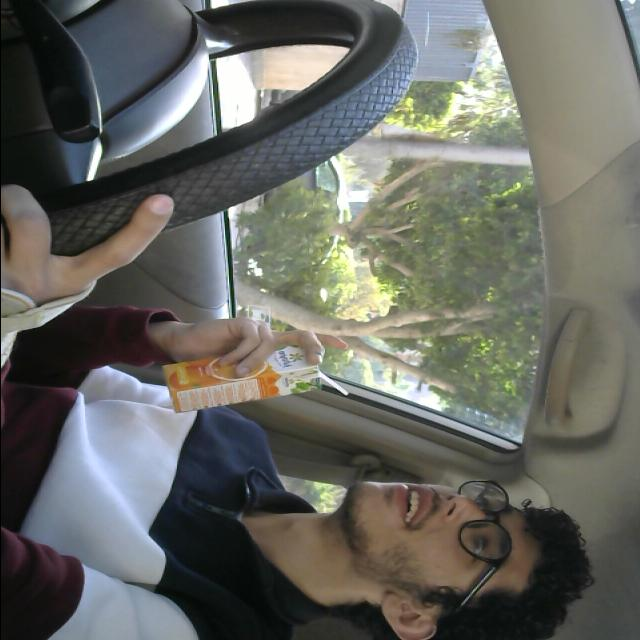drinking: (162, 340, 356, 414)
